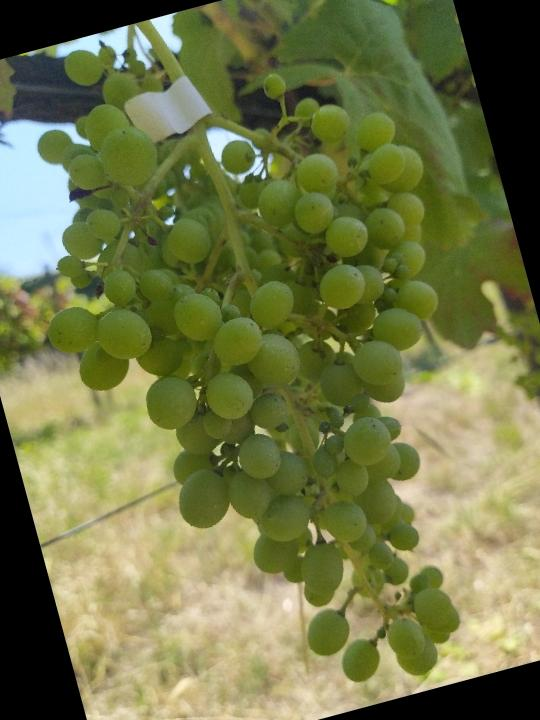grape: (0, 25, 540, 720)
